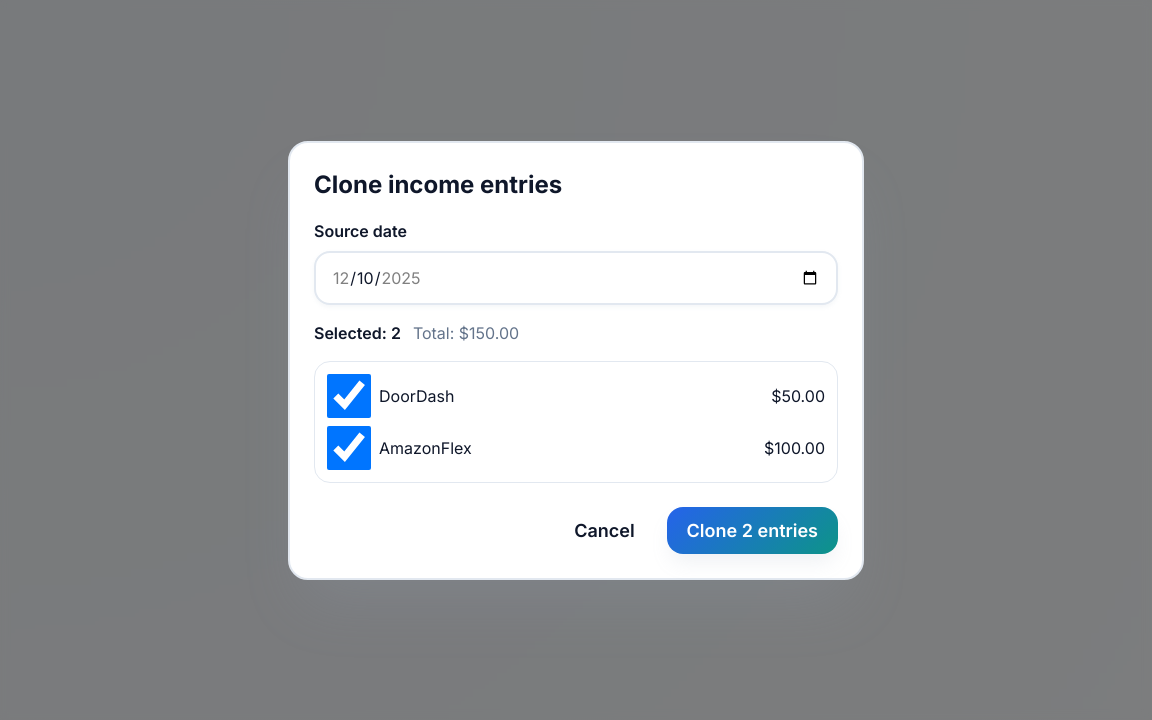
Scenario: CloneIncomeModal › summary updates when selection changes
Expected: the text "Selected: 2" is shown, [314,322,401,342]
Click the checkbox labelled "DoorDash $50.00": (349, 396) [327,374,371,418]
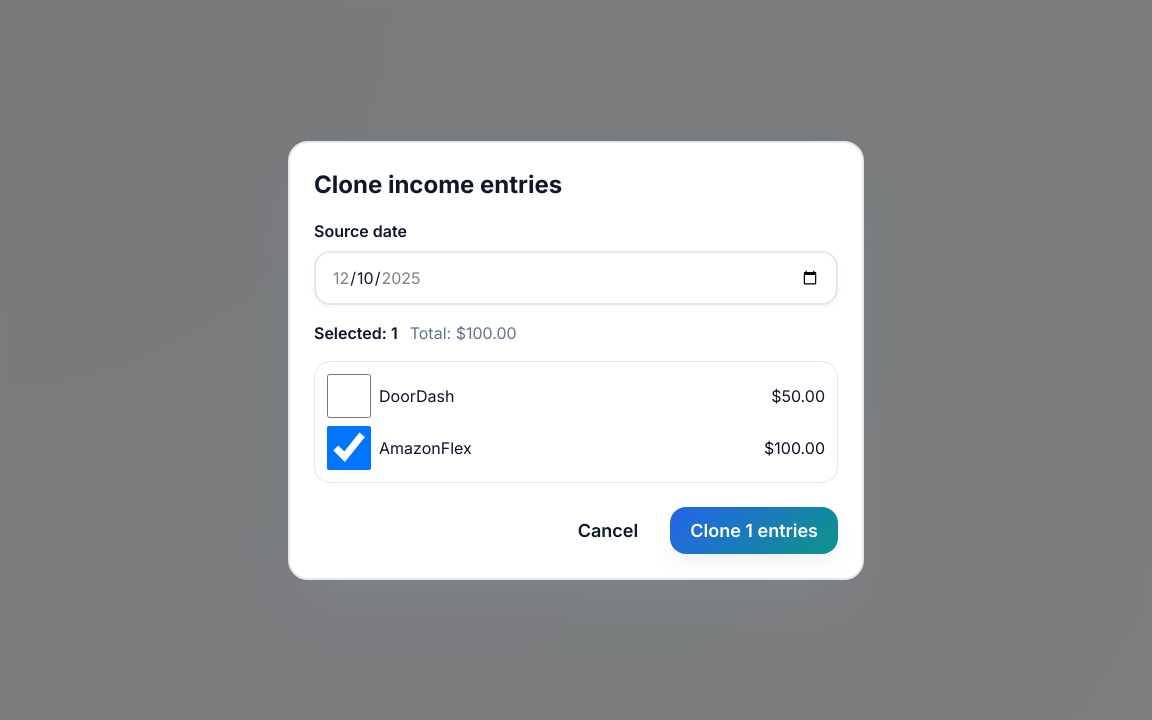
Expected: the text "Selected: 1" is shown, [314,322,398,342]
